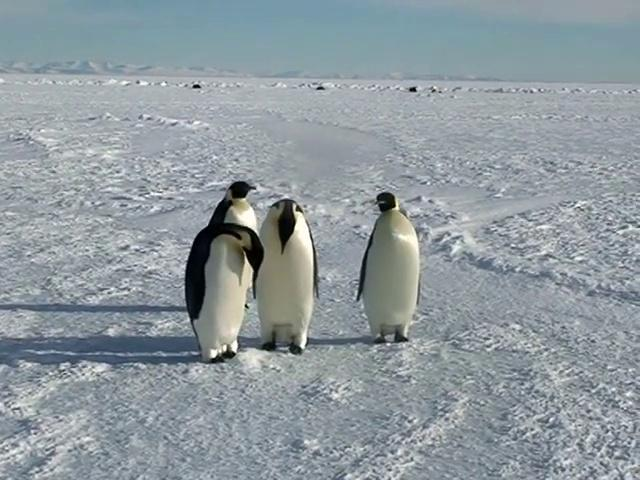animal: (359, 194, 421, 344)
